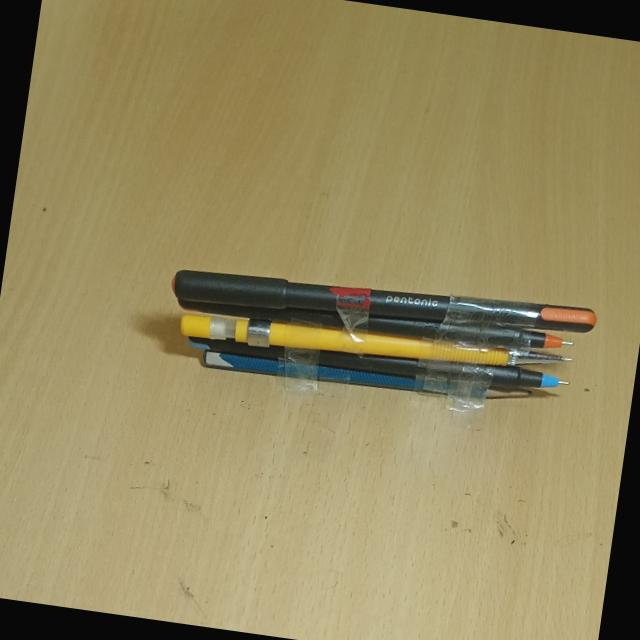pen: (162, 249, 592, 348)
pencil: (179, 335, 538, 421)
